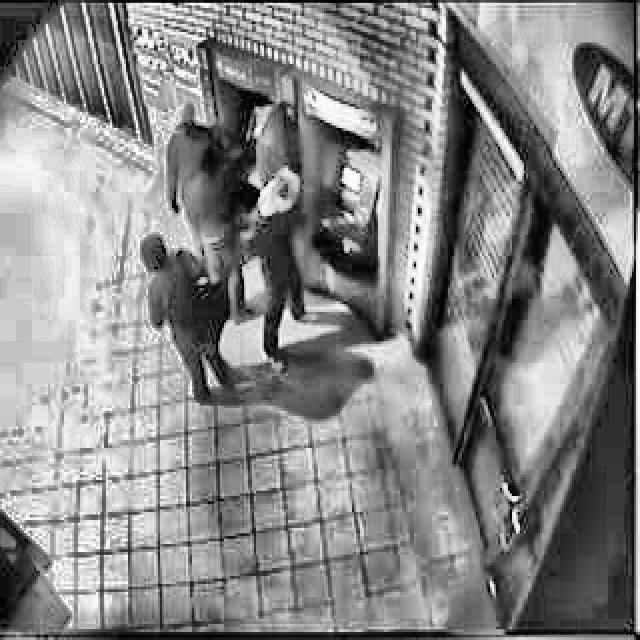burglary: (140, 92, 386, 410)
